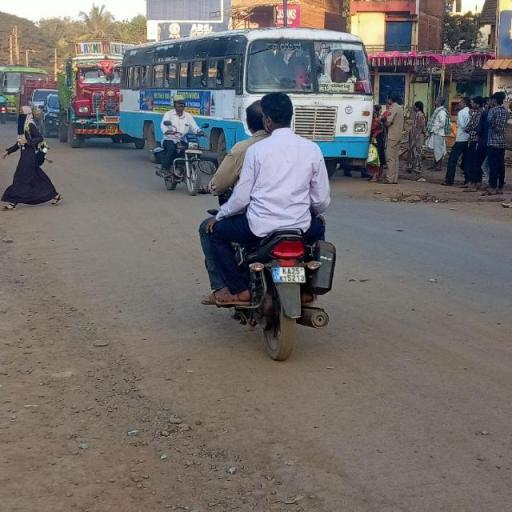bike: (198, 90, 354, 363)
numberplate: (272, 266, 310, 284)
withouthelmet: (261, 94, 292, 130), (246, 103, 264, 133)
